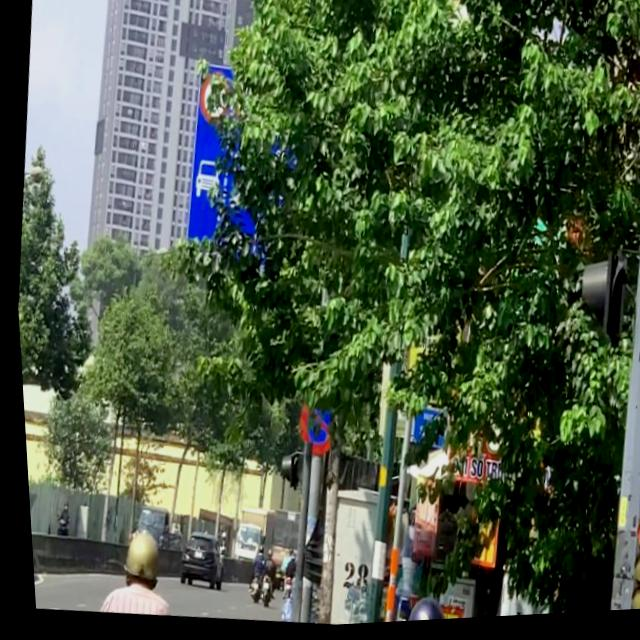Cam do xe: (289, 387, 340, 461)
